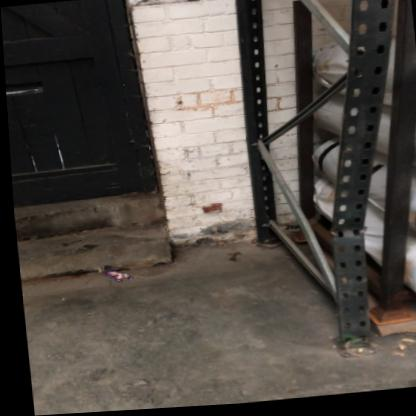vertical_damage: (315, 161, 390, 285)
